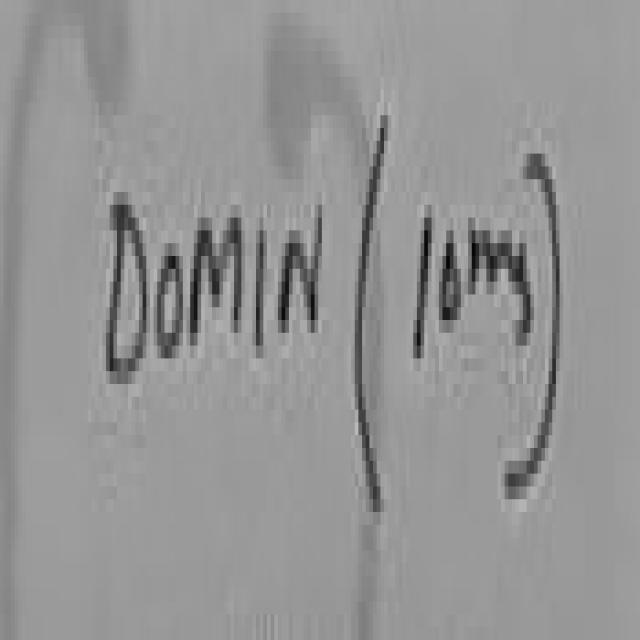0: (437, 204, 462, 354)
1: (402, 165, 438, 378)
D: (94, 134, 150, 410)
I: (249, 180, 270, 368)
M: (188, 177, 246, 386)
N: (274, 165, 330, 392)
O: (152, 225, 186, 398)
g: (513, 218, 538, 366)
m: (464, 206, 510, 316)
